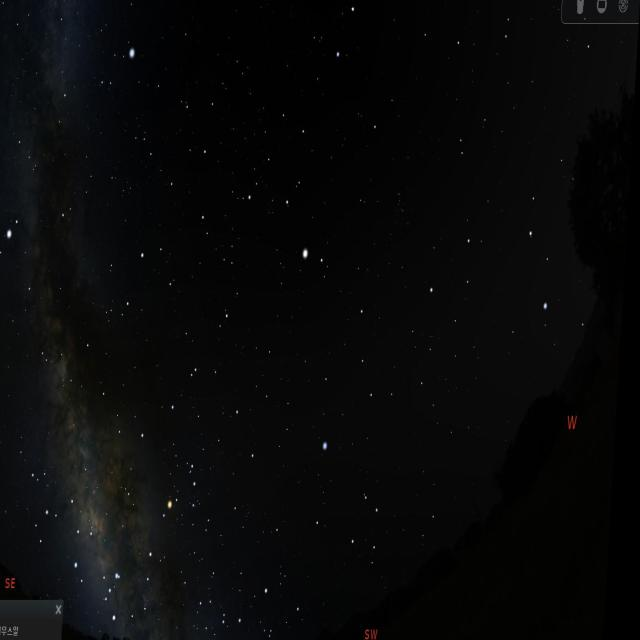aquila: (0, 187, 78, 371)
bootes: (251, 97, 342, 291)
leo: (423, 178, 577, 334)
lyra: (96, 39, 142, 104)
sagittarius: (27, 462, 114, 587)
scorpius: (110, 438, 212, 632)
